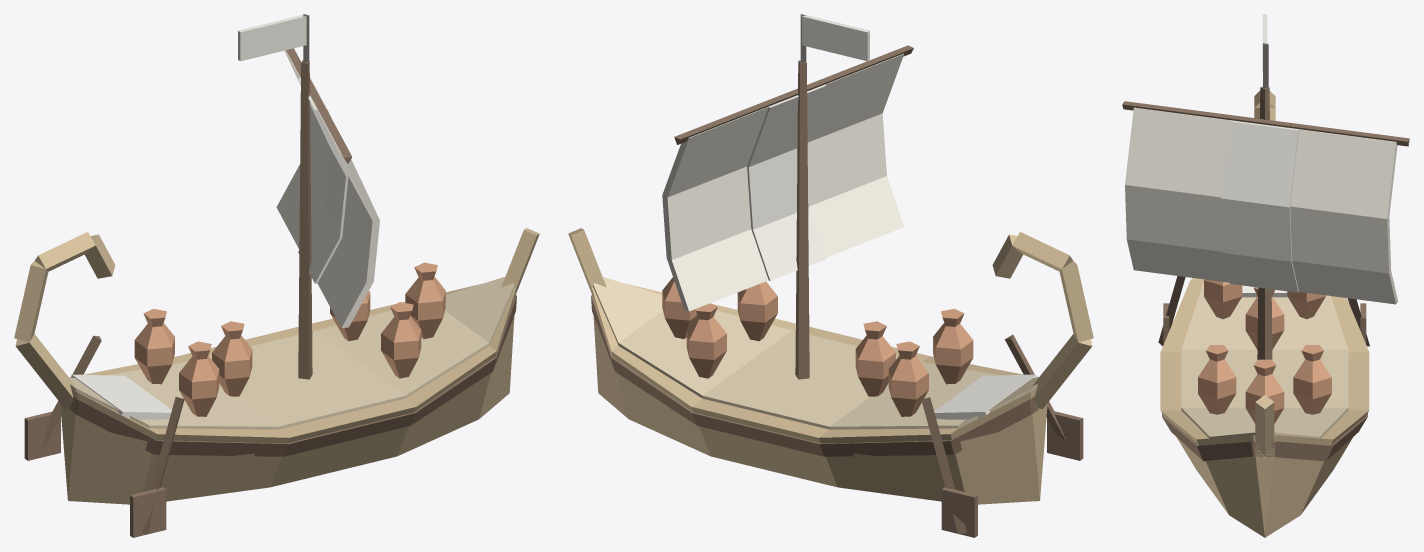
Rendered from trader.glb.
3 views of the same model, side by side, from view 1: azimuth 30°, elevation 25°; view 2: azimuth 150°, elevation 25°; view 3: azimuth 270°, elevation 25° (orthographic). The views are drawn at different scales.
Parts seen in each view (by area): view 1: ancient_trader; view 2: ancient_trader; view 3: ancient_trader.
Boxes of the visible parts, x1,y1,x2,y2 form: ancient_trader: (14,14,539,537); ancient_trader: (568,14,1093,537); ancient_trader: (1122,14,1409,537).
Size of the model in its own units: 0.9995 by 0.7769 by 0.5058.
